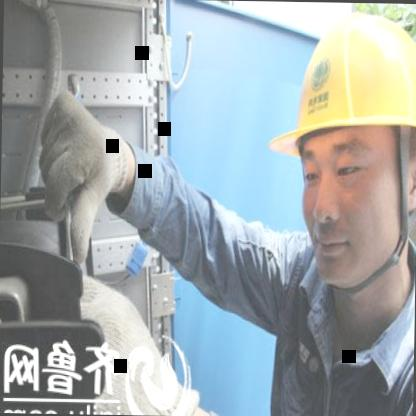helmet: (256, 1, 416, 308)
